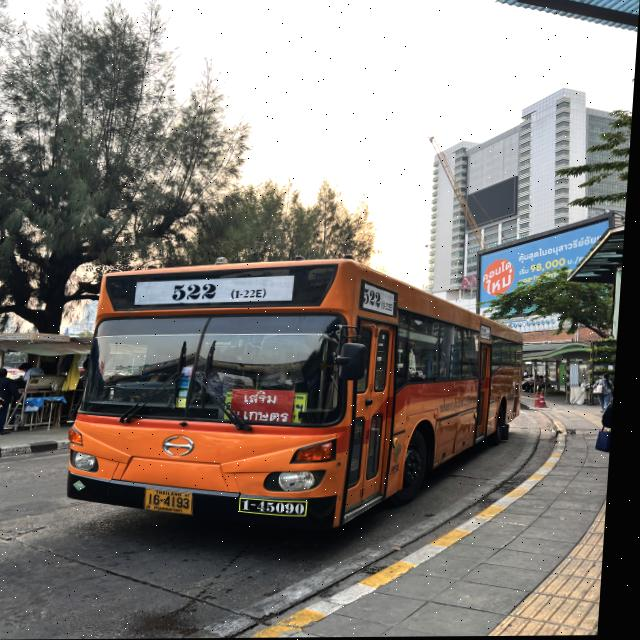BMTA-bus: (68, 260, 535, 537)
Bus-Line-Number: (174, 281, 277, 302)
Destination-Sign-Extra-Bus: (236, 390, 298, 424)
